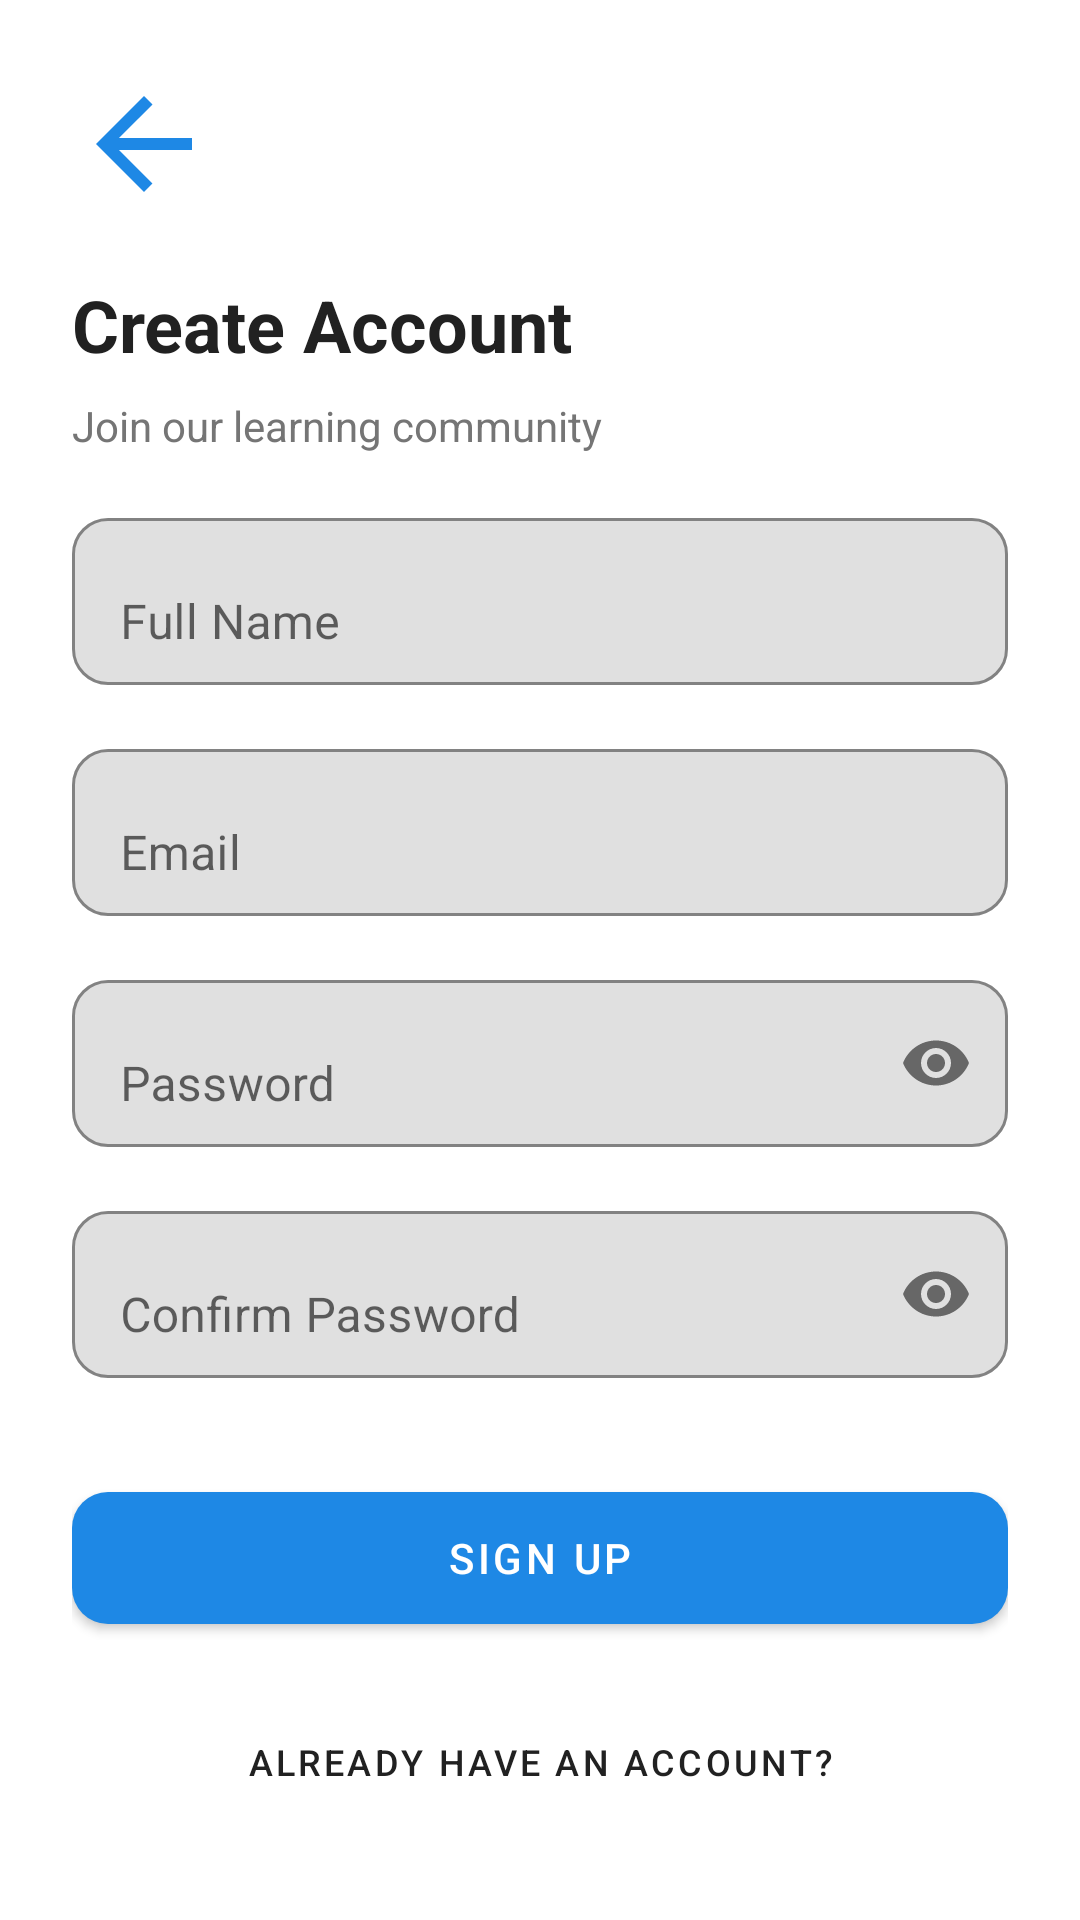

Locate icon controls on the screen. Image size 1080x1920, boxes as (x1, y1, x2, y2).
Back button: (96, 96, 192, 192)
